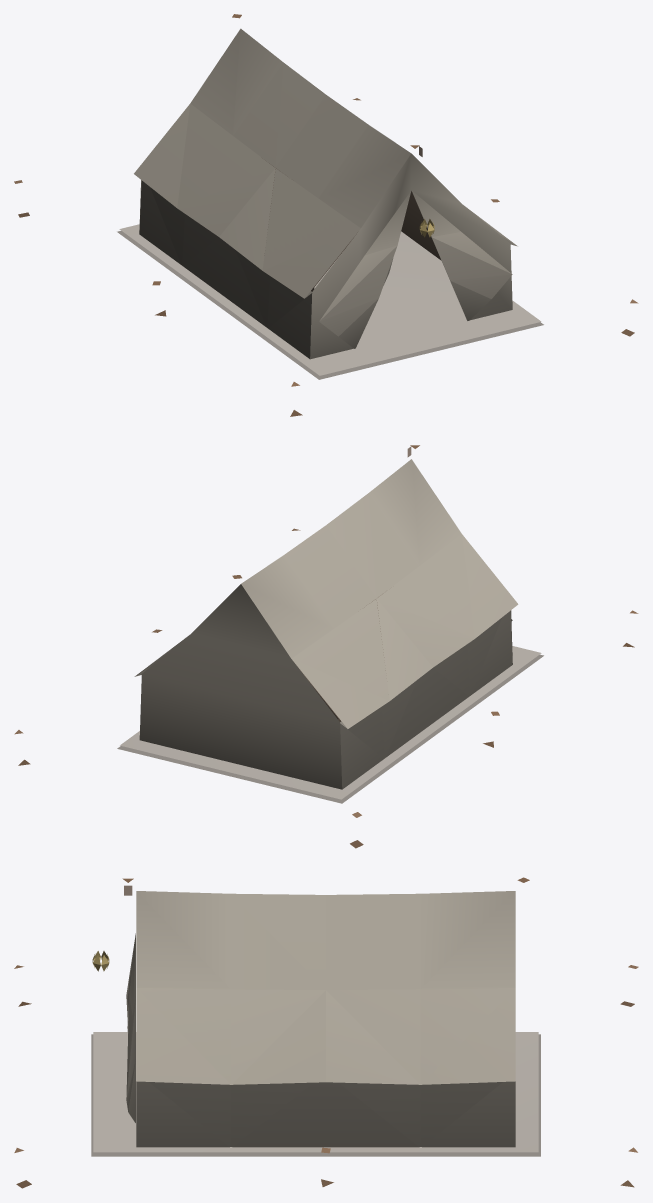
File: tent.lod.glb
3 views of the same model, one above another, from view 1: azimuth 30°, elevation 25°; view 2: azimuth 150°, elevation 25°; view 3: azimuth 270°, elevation 25° (orthographic). The views are drawn at different scales.
Visible parts, largest first — view 1: tent.001; view 2: tent.001; view 3: tent.001.
Part boxes in pixels (x1,y1,x2,y2): tent.001: (14, 14, 638, 416); tent.001: (14, 445, 638, 848); tent.001: (14, 877, 638, 1188).
Size of the model in its own units: 3.7 by 1.97 by 5.19.
